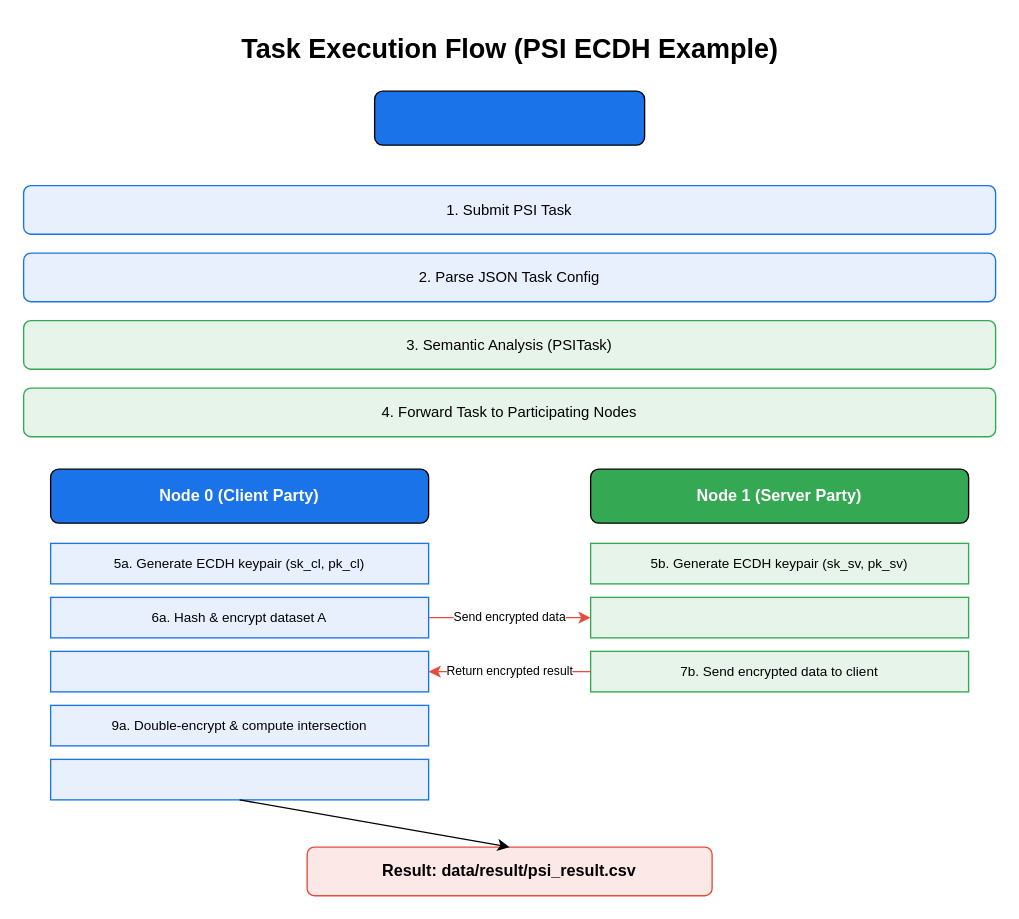
Image size: 1019x919. Some labels were removed from this diagram. The centre of each missing label's shape, as x and y in pixels:
10a. Save result to CSV: pixel 239 779
6b. Hash & encrypt dataset B: pixel 779 617
8a. Receive server's encrypted data: pixel 239 671
Client (primihub-cli): pixel 509 117
